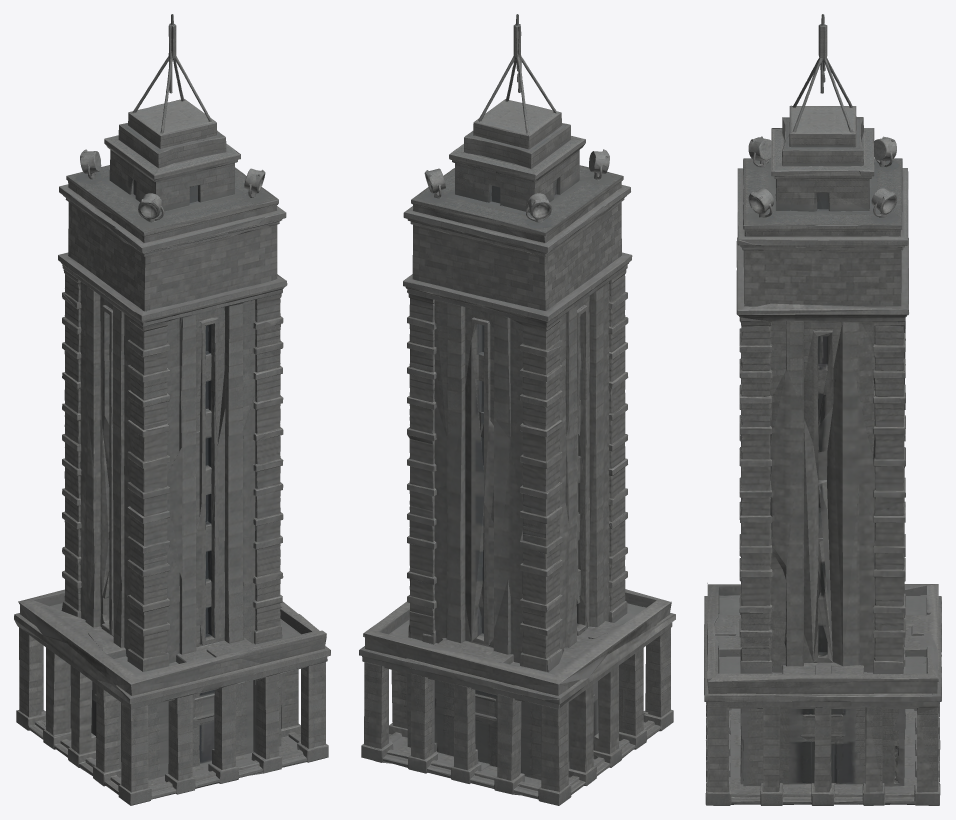
Rendered from gauturm.glb.
3 views of the same model, side by side, from view 1: azimuth 30°, elevation 25°; view 2: azimuth 150°, elevation 25°; view 3: azimuth 270°, elevation 25° (orthographic). The views are drawn at different scales.
Bounding box in the file's own units: 0.5526 × 1.9 × 0.5526.
Materials: 1 (1 with a texture image).
